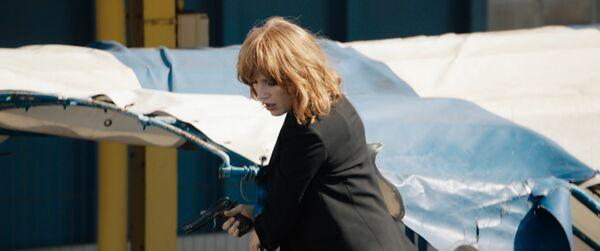Gun: (180, 200, 252, 238)
